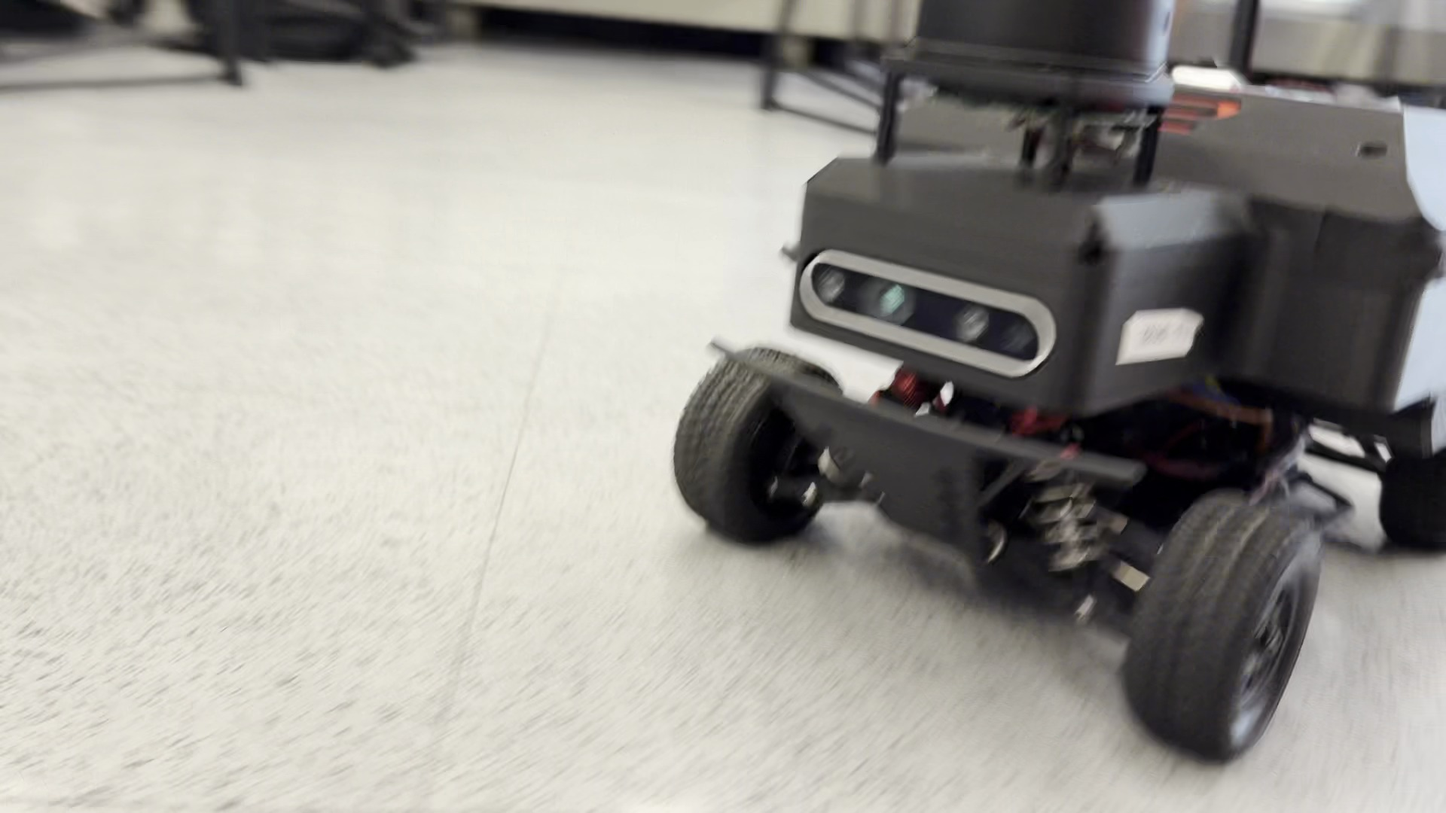racecar: (666, 0, 1445, 771)
